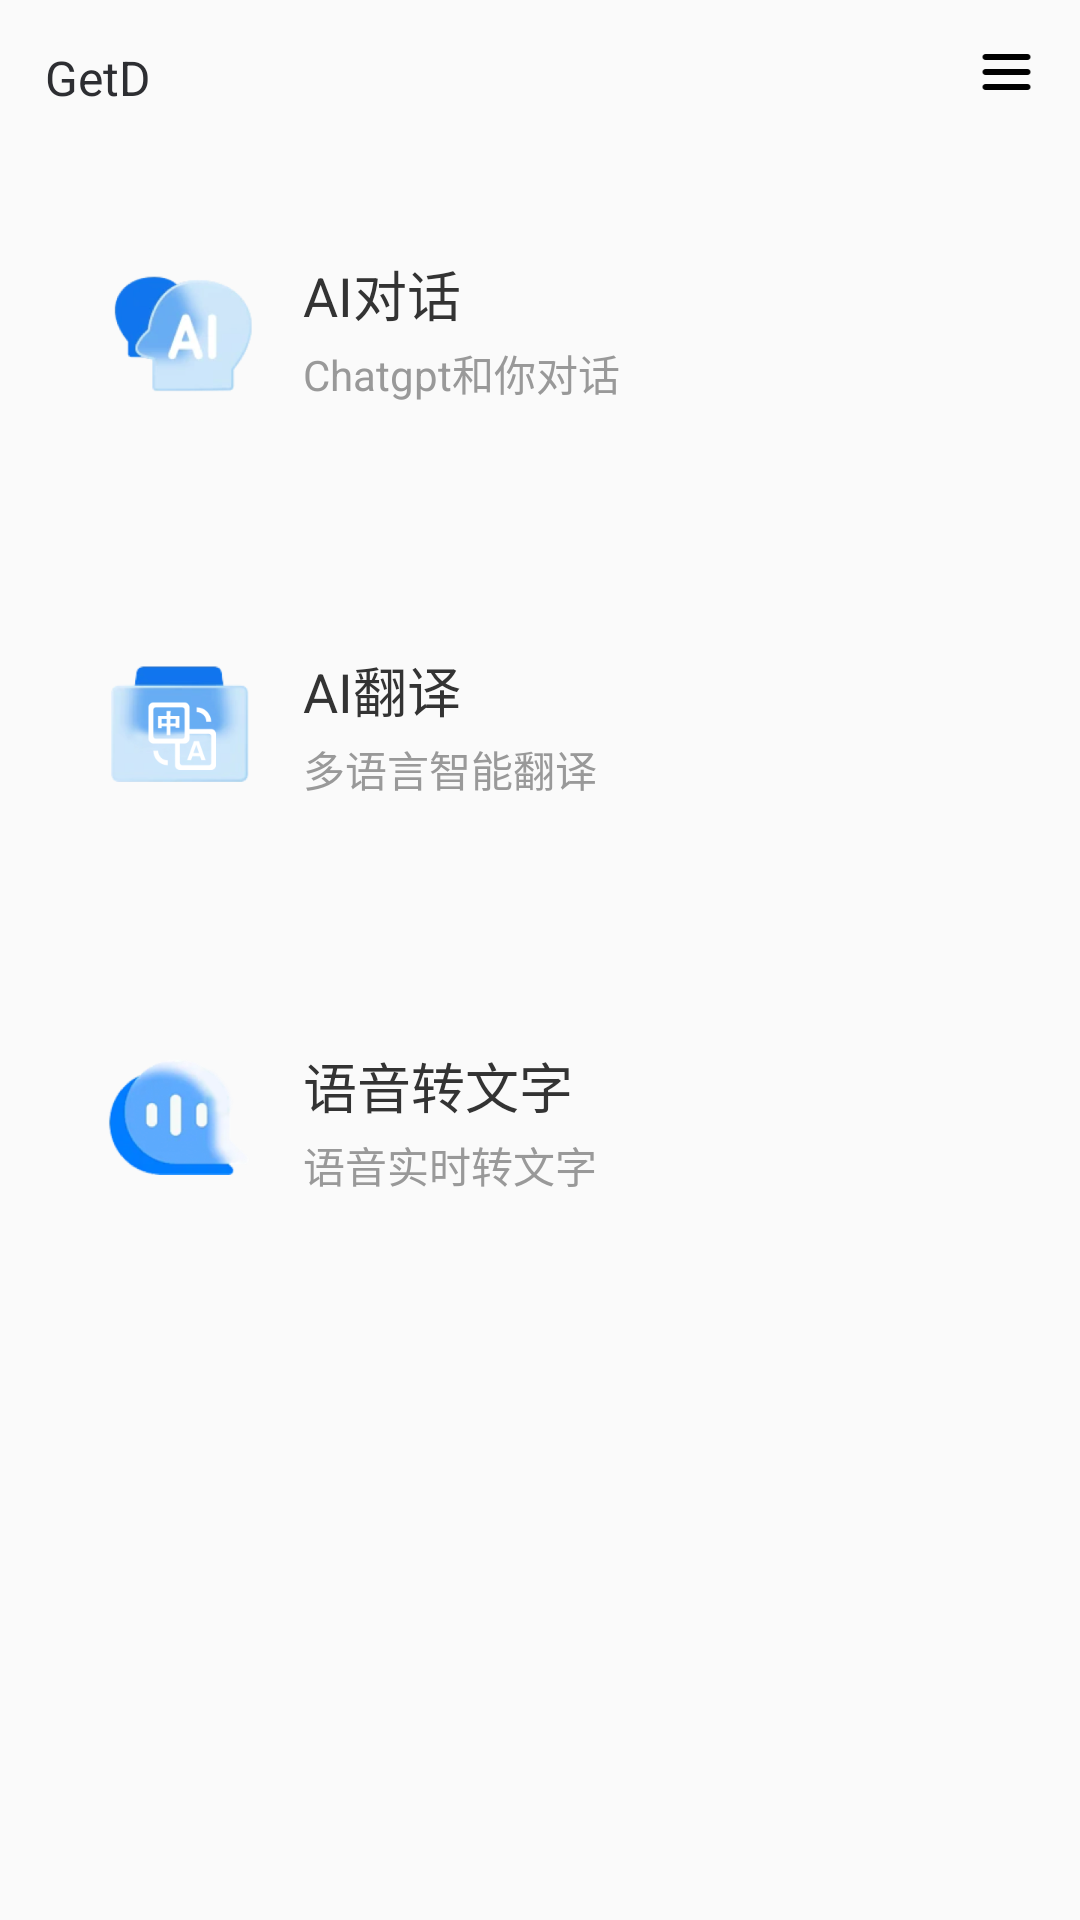

Point at icon controls on the screen. Image size 1080*1920, points as (x=x, y=y).
ai chat: (x=183, y=333)
ai translate: (x=179, y=724)
ai voice: (x=171, y=1120)
